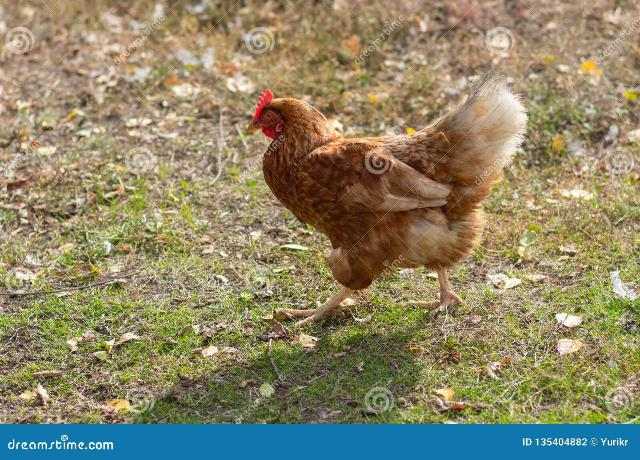Chicken: (247, 67, 529, 326)
